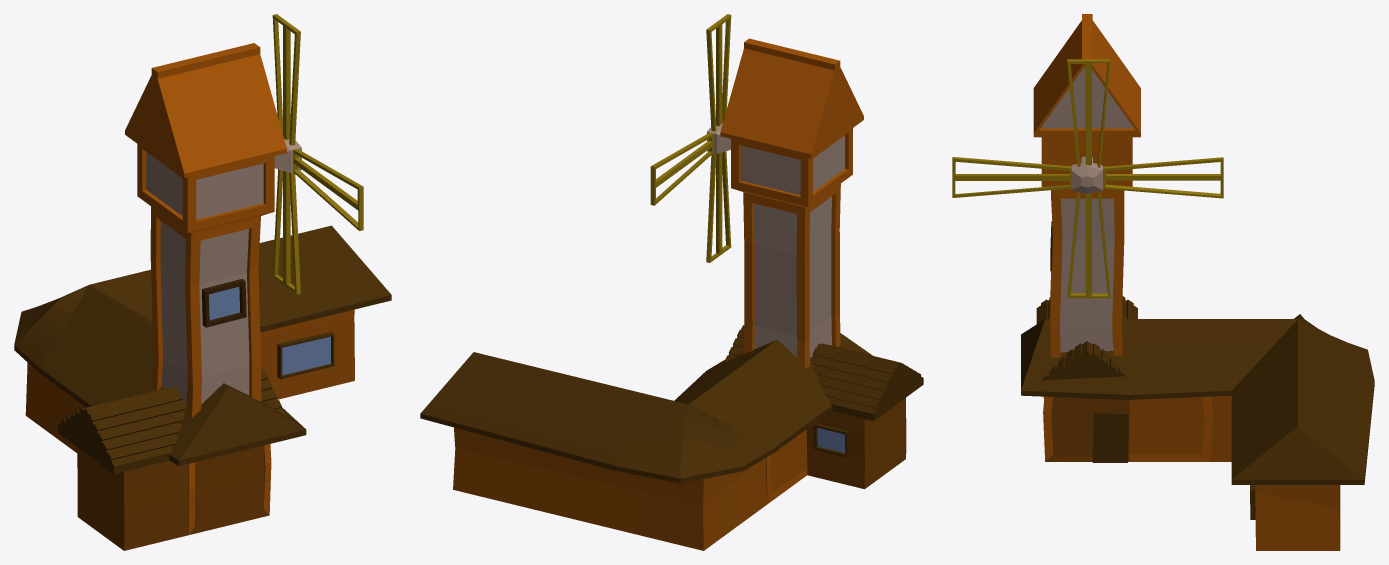
Rendered from Building.fbx.
3 views of the same model, side by side, from view 1: azimuth 30°, elevation 25°; view 2: azimuth 150°, elevation 25°; view 3: azimuth 270°, elevation 25° (orthographic). The views are drawn at different scales.
Visible parts, largest first — view 1: Mill, House2, House1, Cube.001; view 2: House2, Mill, House1, Cube.001; view 3: House2, Mill, Cube.001, House1.
Boxes of the visible parts, x1=… form: Mill: x1=125, y1=43, x2=286, y2=534; House2: x1=14, y1=225, x2=391, y2=465; House1: x1=58, y1=366, x2=286, y2=550; Cube.001: x1=272, y1=14, x2=363, y2=294; House2: x1=420, y1=333, x2=872, y2=550; Mill: x1=720, y1=38, x2=863, y2=503; House1: x1=724, y1=325, x2=923, y2=489; Cube.001: x1=650, y1=14, x2=731, y2=262; House2: x1=1021, y1=314, x2=1374, y2=550; Mill: x1=1033, y1=14, x2=1212, y2=461; Cube.001: x1=952, y1=59, x2=1223, y2=298; House1: x1=1036, y1=296, x2=1137, y2=461.
Size of the model in its own units: 9.55 by 10.99 by 10.02.
